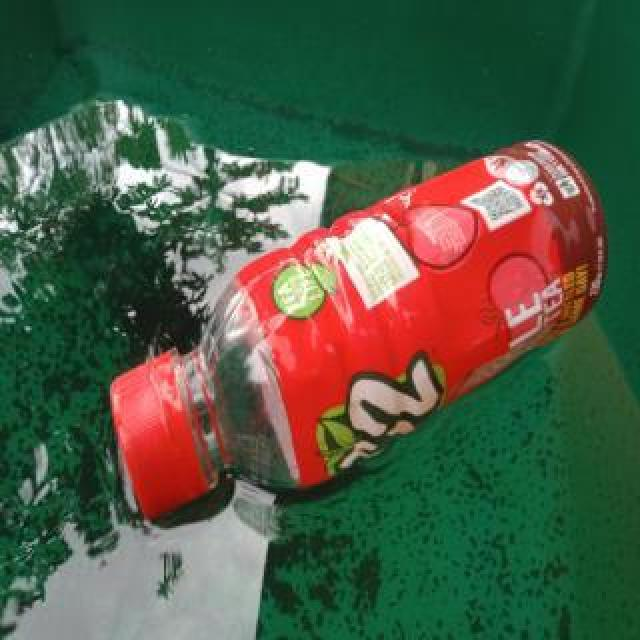bottle: (103, 136, 611, 522)
